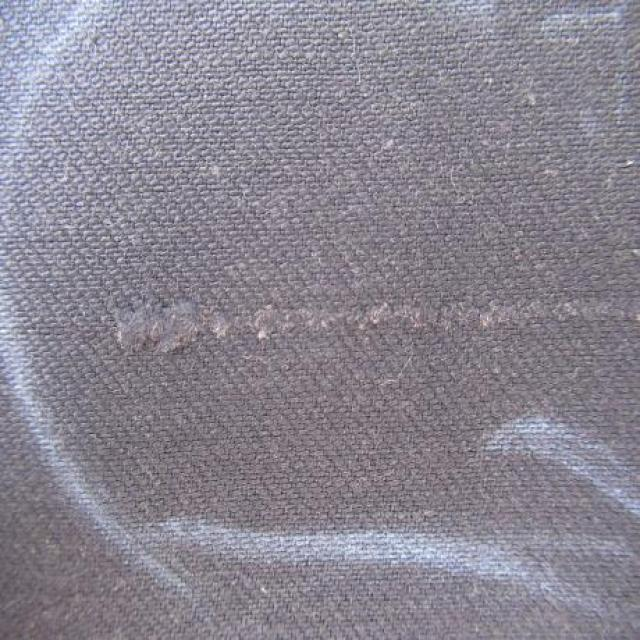stain: (0, 0, 639, 623)
